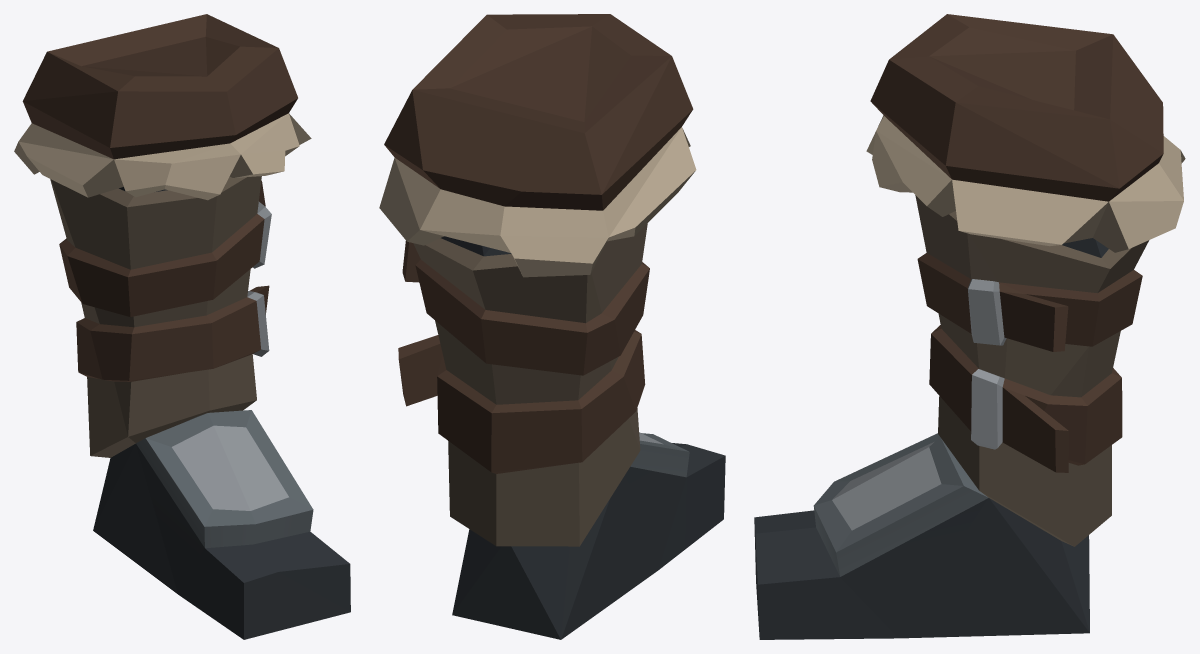
File: Chr_LegRight_Male_09_Static.fbx
3 views of the same model, side by side, from view 1: azimuth 30°, elevation 25°; view 2: azimuth 150°, elevation 25°; view 3: azimuth 270°, elevation 25° (orthographic). The views are drawn at different scales.
Visible parts, largest first — view 1: Chr_LegRight_Male_09_Static; view 2: Chr_LegRight_Male_09_Static; view 3: Chr_LegRight_Male_09_Static.
Boxes of the visible parts, bbox=[...] form: Chr_LegRight_Male_09_Static: bbox=[14, 14, 350, 639]; Chr_LegRight_Male_09_Static: bbox=[379, 14, 725, 639]; Chr_LegRight_Male_09_Static: bbox=[754, 14, 1185, 639].
Size of the model in its own units: 0.196 by 0.404 by 0.2884.
